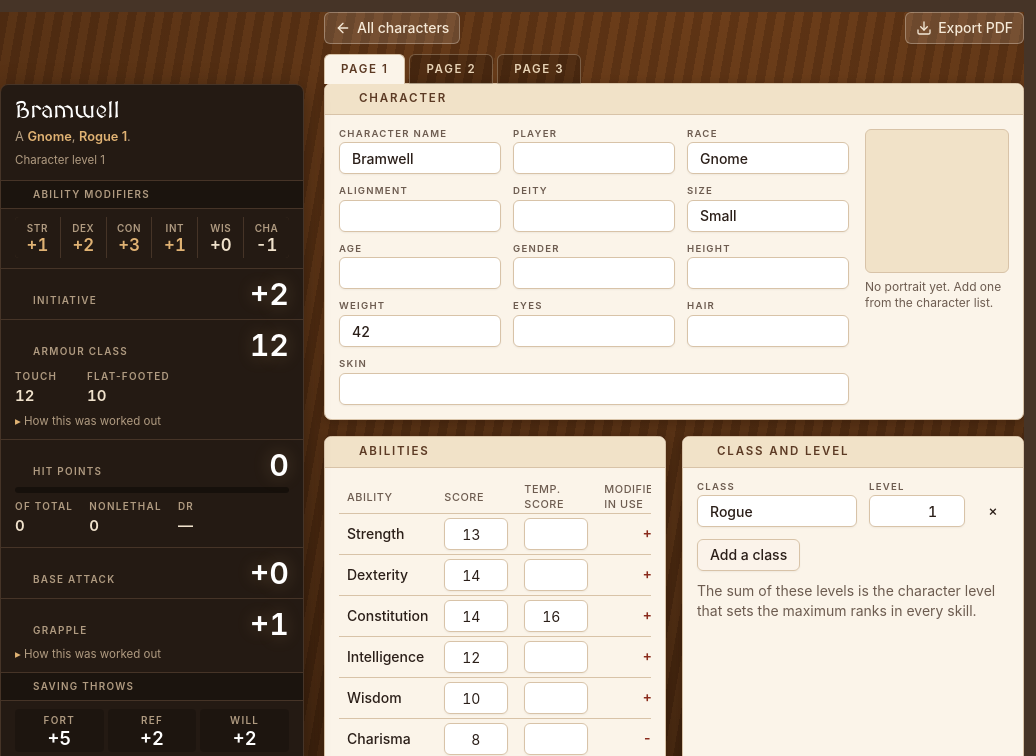
Scenario: the derived rail › folds the armour-class components away until they are asked for
The image size is (1036, 756).
Click the heading "▸ How this was worked out" below "Touch" at (88, 421), box [15,414,161,428]
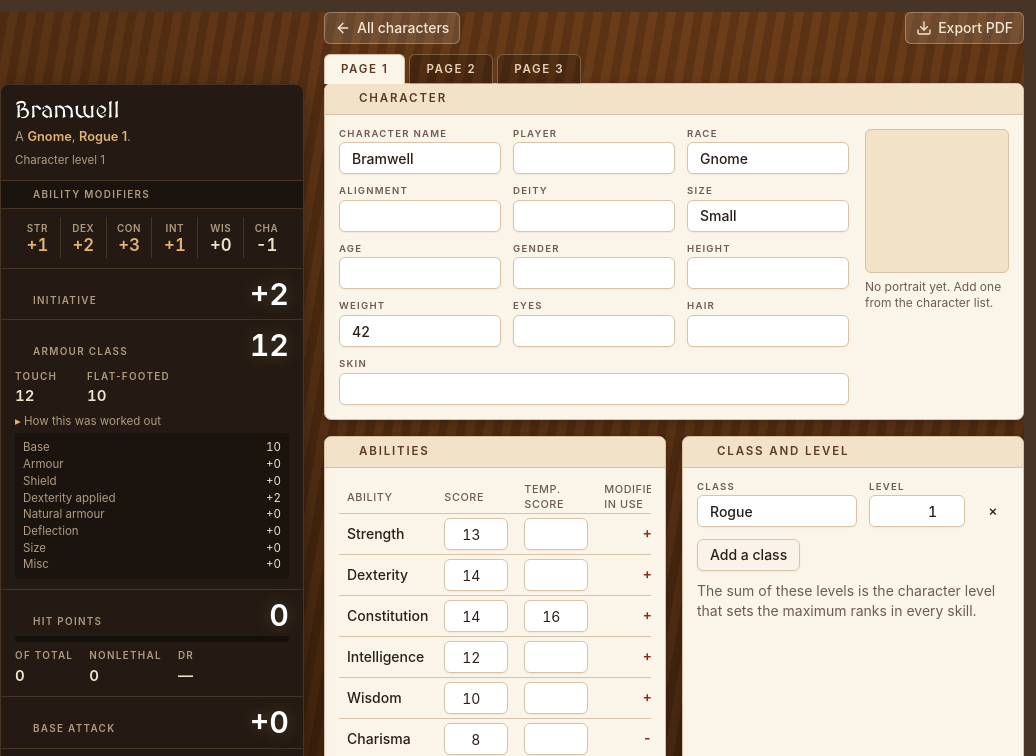
Check: the element that starts with "How this was worked out" shows "Shield", box [23,474,56,488]
